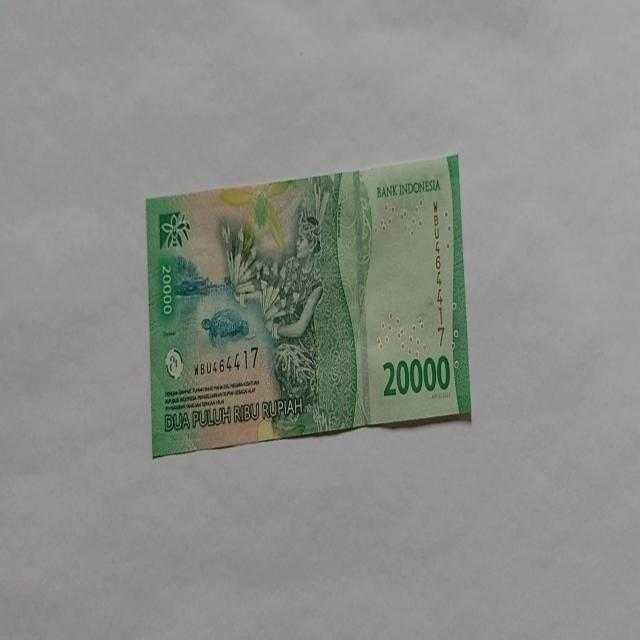dua puluh ribu rupiah: (145, 152, 472, 458)
